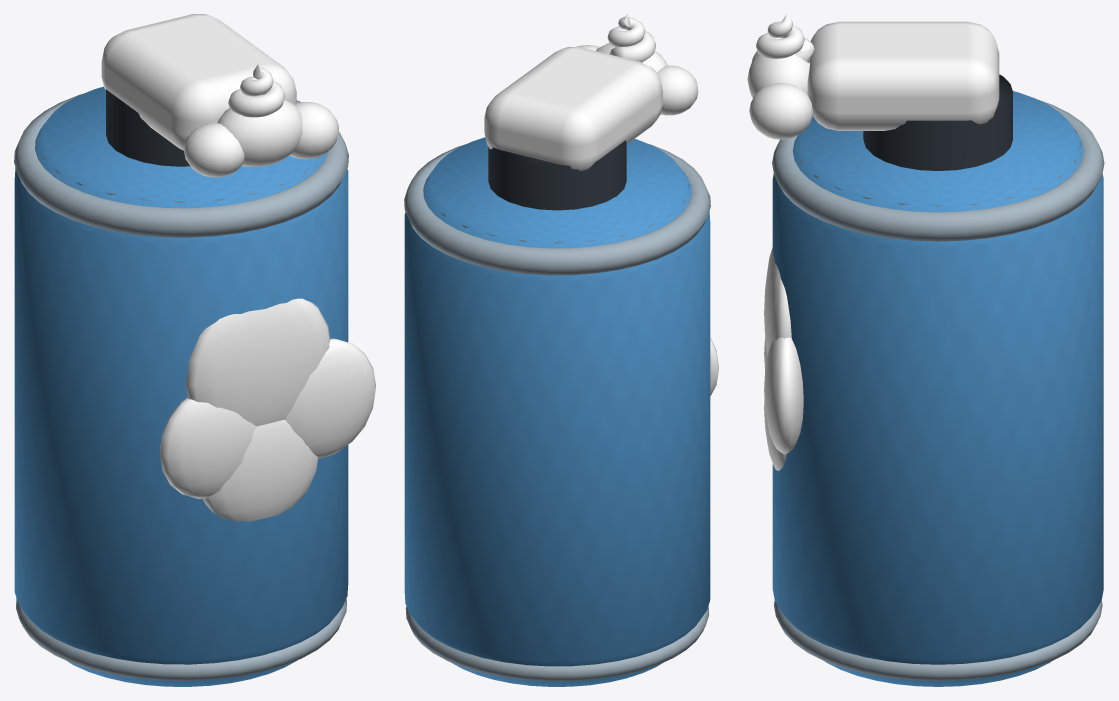
The model's file is FOAM.glb.
The picture shows the model from 3 angles, left to right: view 1: azimuth 30°, elevation 25°; view 2: azimuth 150°, elevation 25°; view 3: azimuth 270°, elevation 25°; orthographic projection. The views are drawn at different scales.
Visible parts, largest first — view 1: FOAM; view 2: FOAM; view 3: FOAM.
Part boxes in pixels (bbox=[...]): FOAM: bbox=[14, 14, 375, 686]; FOAM: bbox=[404, 14, 718, 686]; FOAM: bbox=[747, 14, 1104, 686].
Bounding box in the file's own units: 0.1909 × 0.3895 × 0.2049.
Materials: 4 (1 with a texture image).
